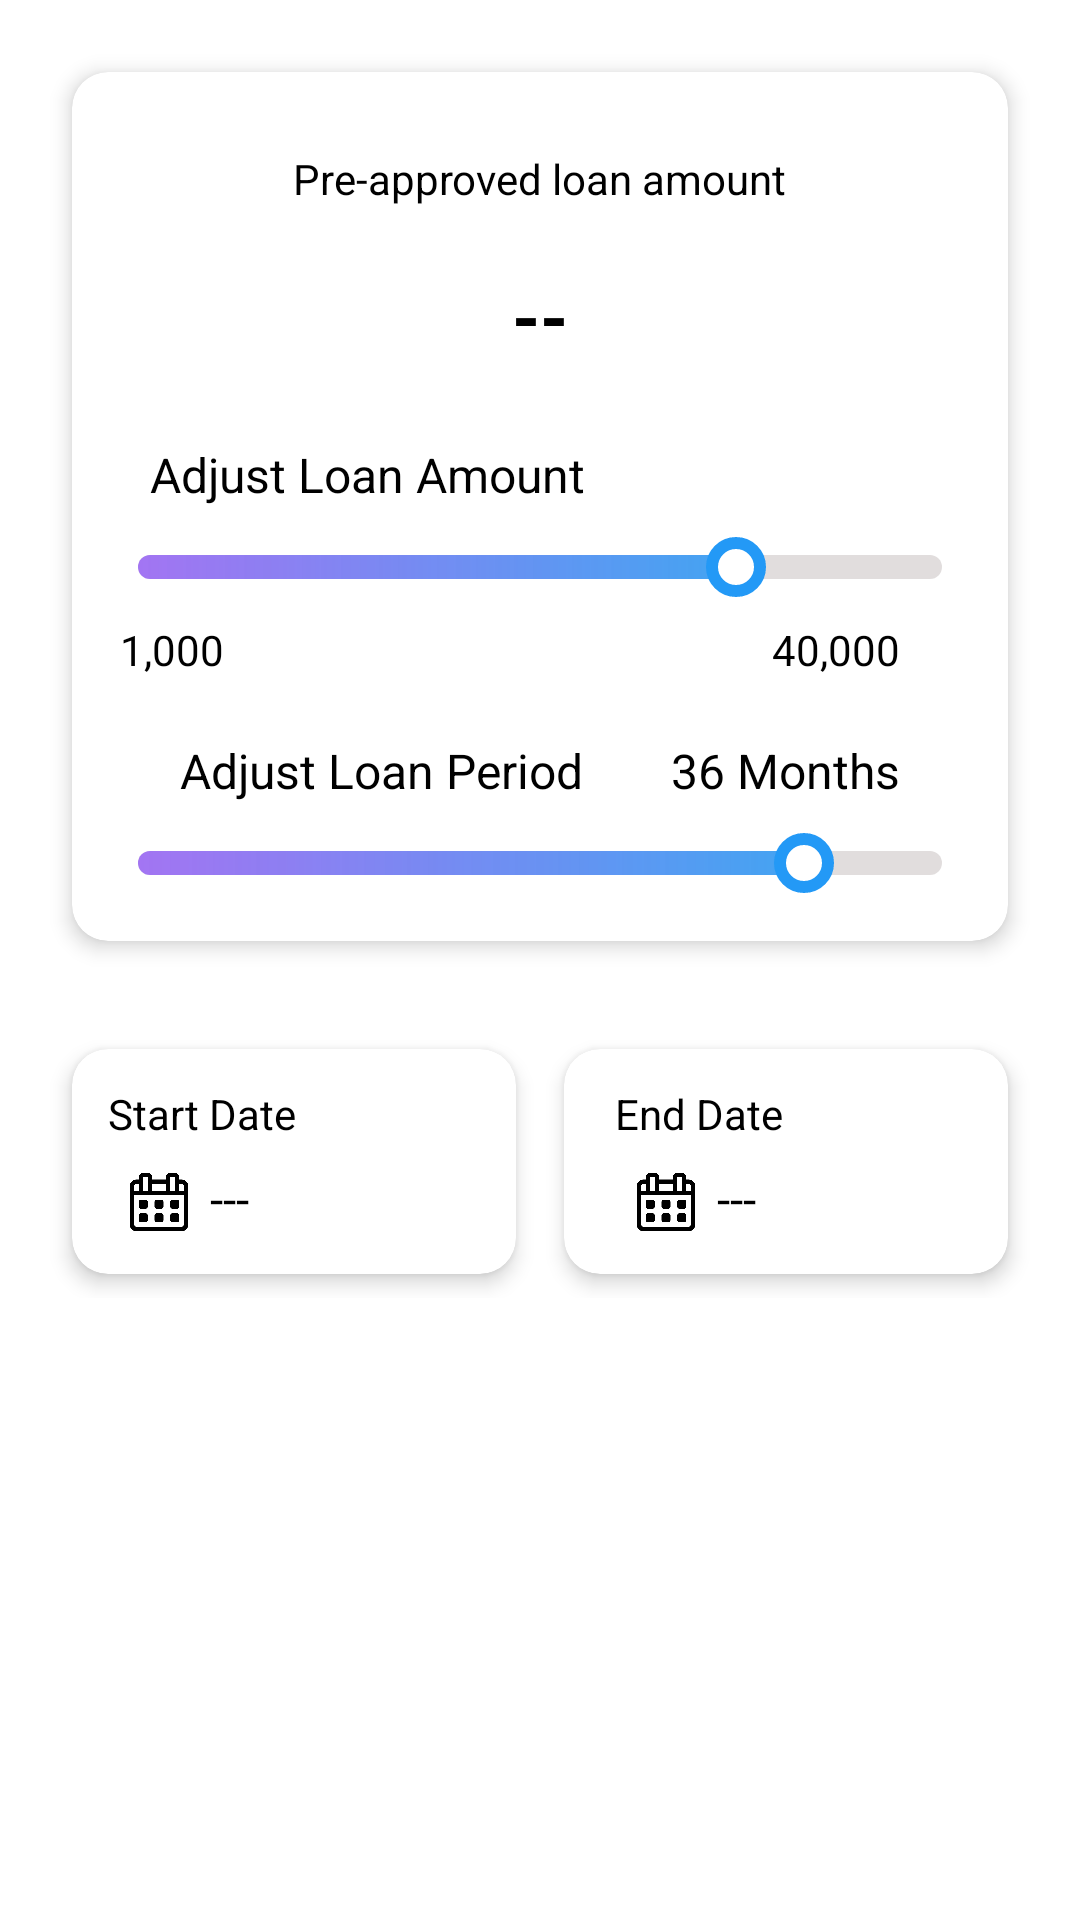

Locate icon controls on the screen. Image size 1080×1920, boxes as [left=x1, top=y1, right=x2, bottom=y2].
calendar: [left=130, top=1173, right=188, bottom=1231]
